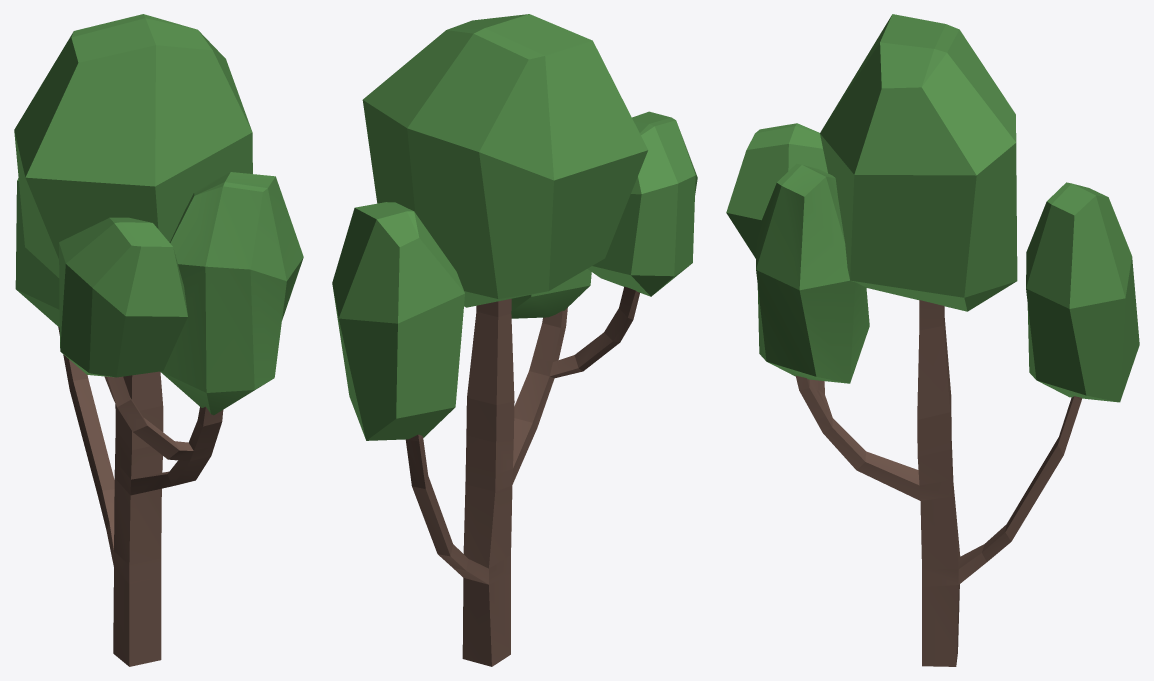
The model's file is arbol3.glb.
3 renders of one model, left to right at view 1: azimuth 30°, elevation 25°; view 2: azimuth 150°, elevation 25°; view 3: azimuth 270°, elevation 25°, orthographic. The views are drawn at different scales.
Visible parts, largest first — view 1: arbol; view 2: arbol; view 3: arbol.
Boxes of the visible parts, box(x1,y1,x2,y2) form: arbol: box(14, 14, 303, 666); arbol: box(332, 14, 697, 666); arbol: box(726, 14, 1139, 666).
Size of what is drawn, in the model's own units: 4.2 by 10.41 by 6.36.
